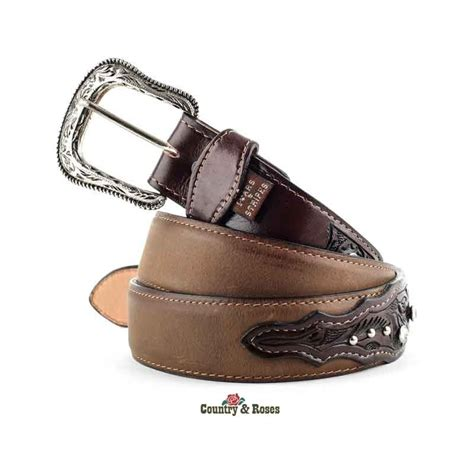cuero: (90, 116, 411, 382)
